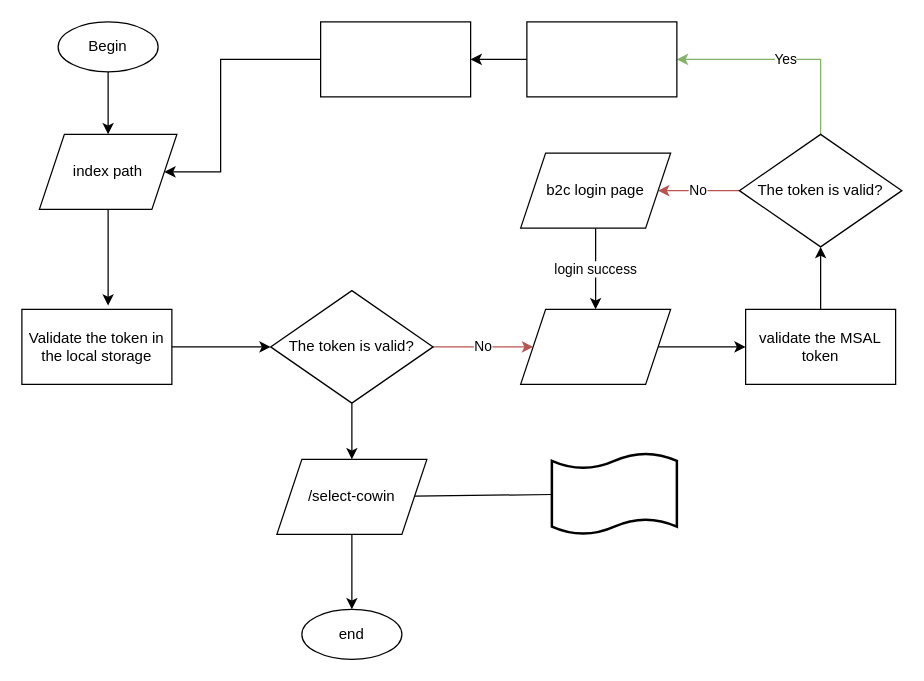
This 924x681 diagram has some shape labels left out. Each missing label, with the centre of its shape:
/auth/callback: the point at 595,346
Exchange the MSAL token to OIDC token: the point at 601,59
Now the user is authenticated: the point at 614,493
Store the token and attach it into axios header: the point at 395,59
